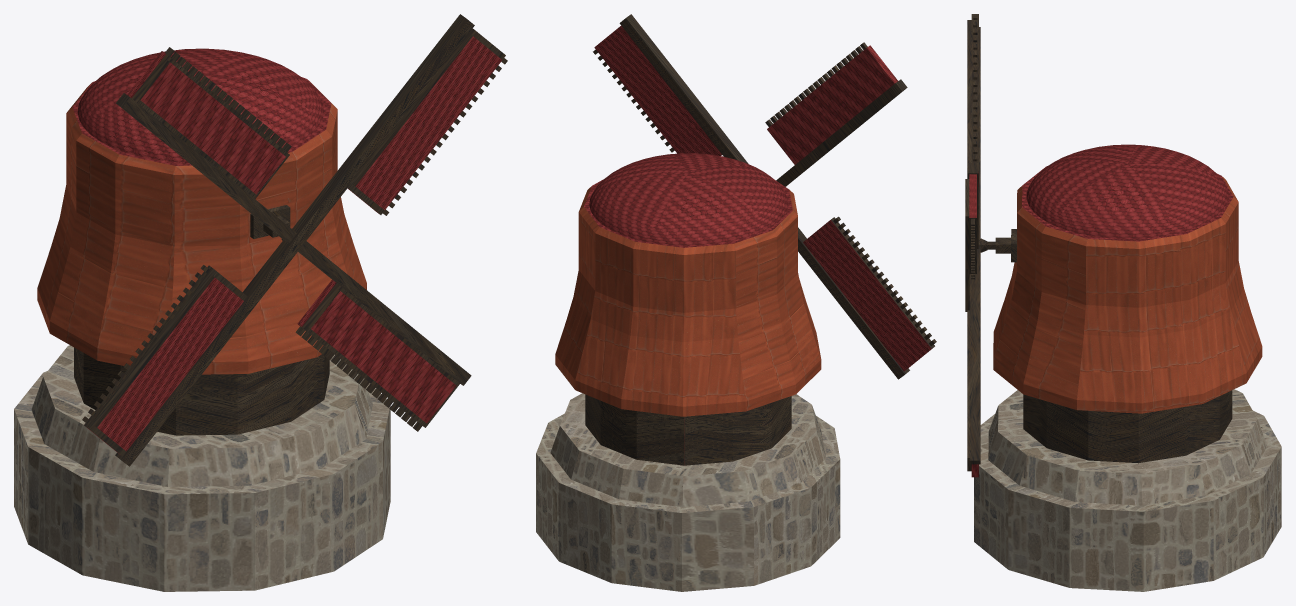
File: prop-windmill_1.fbx
3 views of the same model, side by side, from view 1: azimuth 30°, elevation 25°; view 2: azimuth 150°, elevation 25°; view 3: azimuth 270°, elevation 25° (orthographic). The views are drawn at different scales.
Parts seen in each view (by area): view 1: Icosphere.082; view 2: Icosphere.082; view 3: Icosphere.082.
Boxes of the visible parts, x1,y1,x2,y2 form: Icosphere.082: (14,14,507,591); Icosphere.082: (536,14,936,591); Icosphere.082: (965,14,1281,591).
Bounding box in the file's own units: 589 × 748 × 464.
